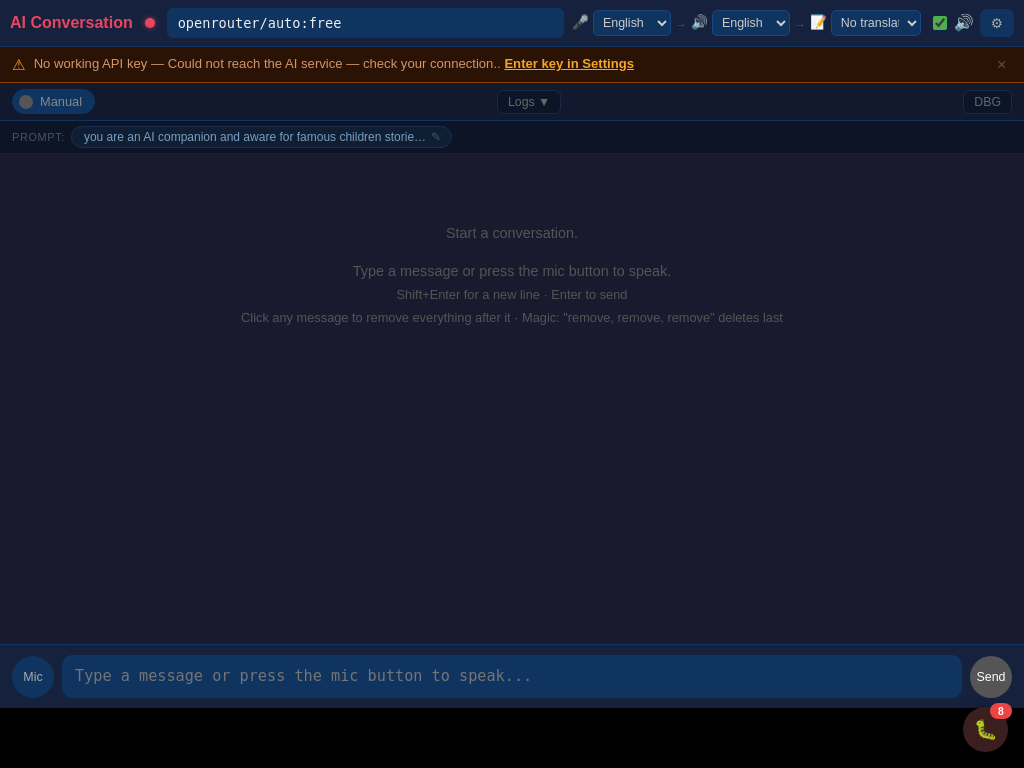
Test: Debug Mode › settings popup closes on backdrop click
The width and height of the screenshot is (1024, 768).
Click the button with class "ai-settings-btn".
click(997, 23)  # box [980,9,1014,37]
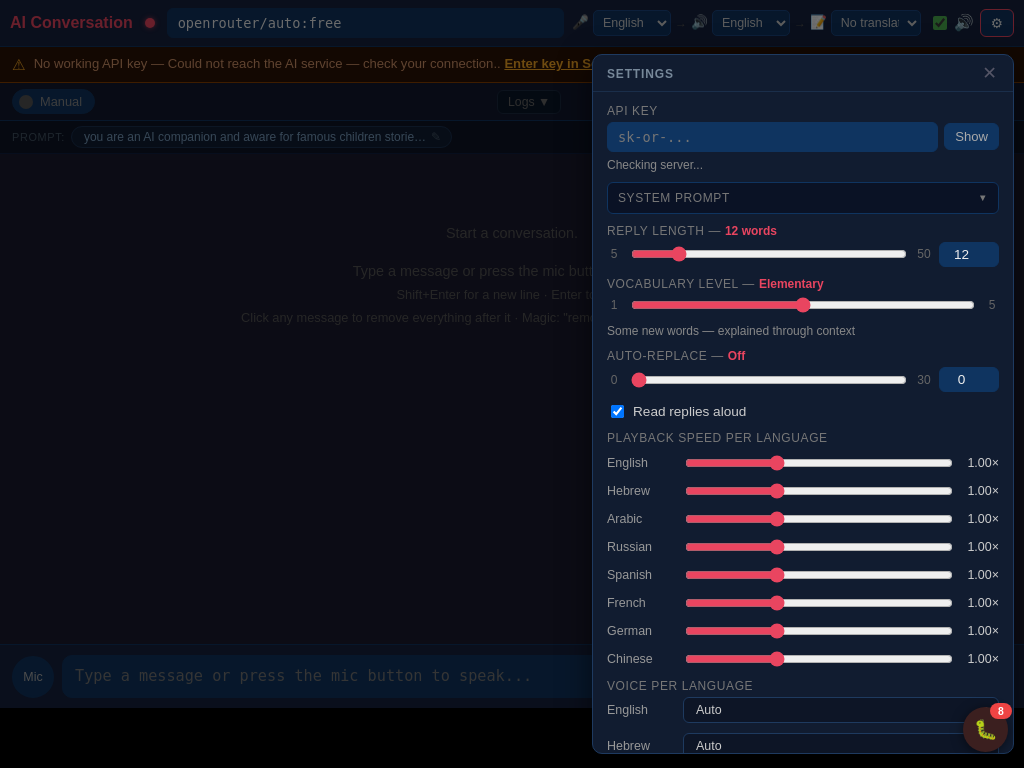
Expected: the element with class "ai-popup-settings" is shown, [592,54,1014,754]
Click the element with class "ai-popup-backdrop".
click(512, 384)  # box [0,0,1023,767]
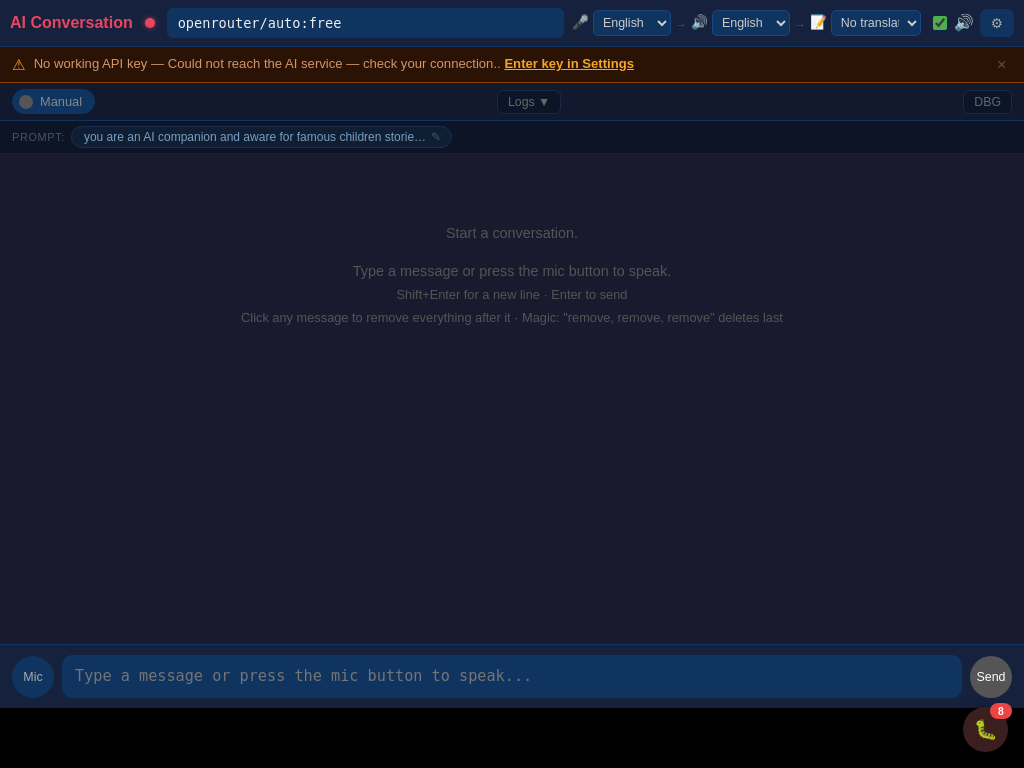
Expected: the element with class "ai-popup-settings" is gone
